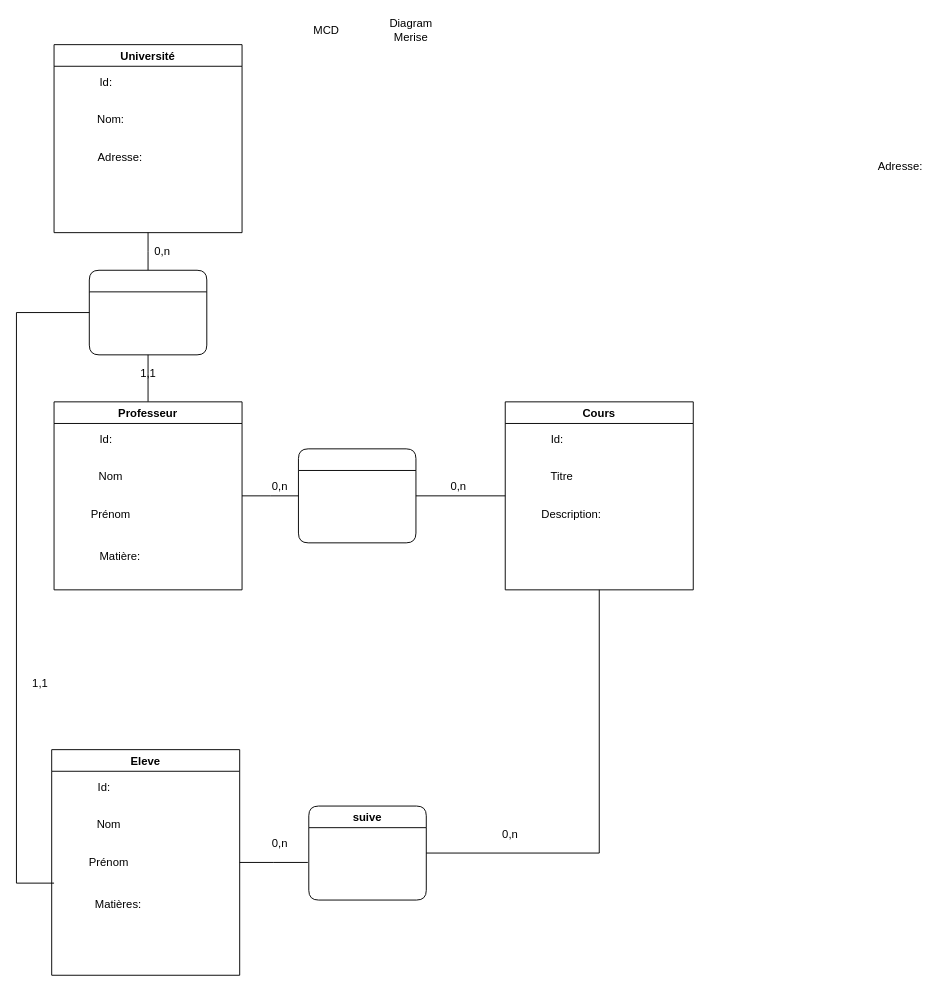
The diagram is 945 pixels wide and 992 high, and some of its shapes have lost their labels. Here are the shapes that lost their labels. From the top down, the centre of each, then its label:
At point (147, 312): "Crée".
At point (357, 495): "donne".
